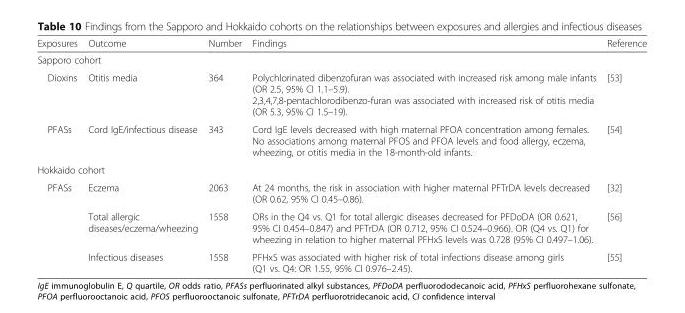table: (36, 37, 646, 273)
table column: (246, 37, 600, 273), (82, 37, 202, 273), (36, 37, 82, 273), (600, 37, 646, 273), (202, 37, 246, 273)
table column header: (36, 37, 646, 51)
table projected row header: (36, 160, 646, 178), (36, 51, 646, 68)
table row: (36, 68, 646, 120), (36, 120, 646, 160), (36, 207, 646, 247), (36, 178, 646, 207), (36, 247, 646, 273), (36, 160, 646, 178), (36, 51, 646, 68), (36, 37, 646, 51)
table spanning cell: (36, 178, 82, 273)
